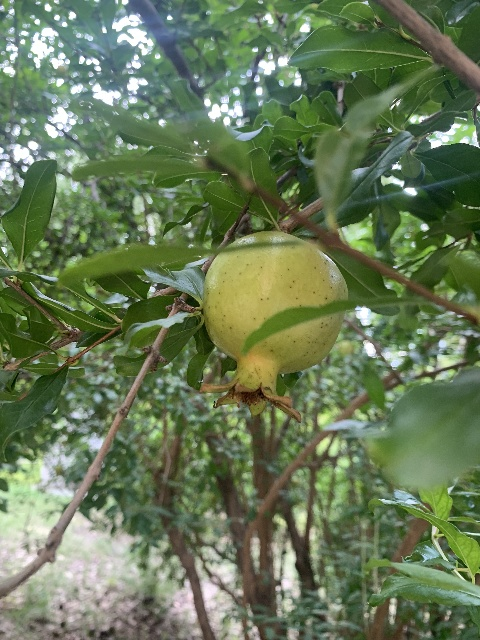mid-growth: (198, 229, 346, 422)
